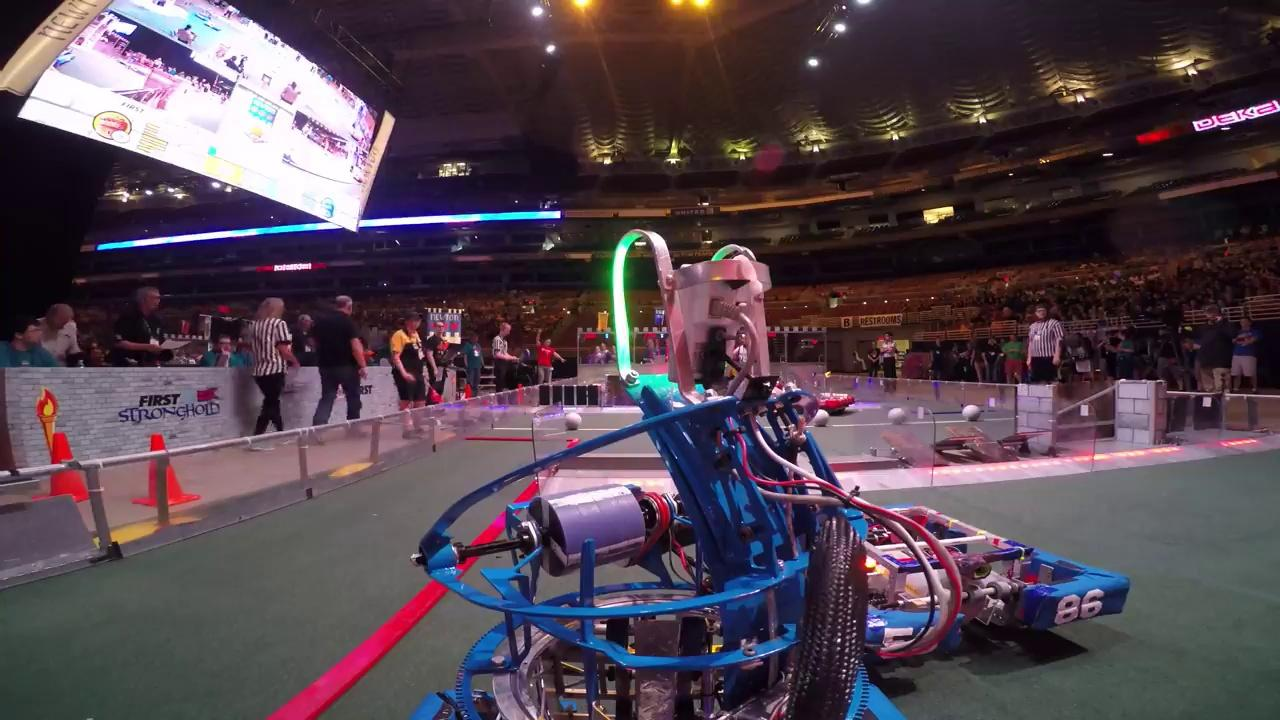robot: (768, 496, 1142, 676)
